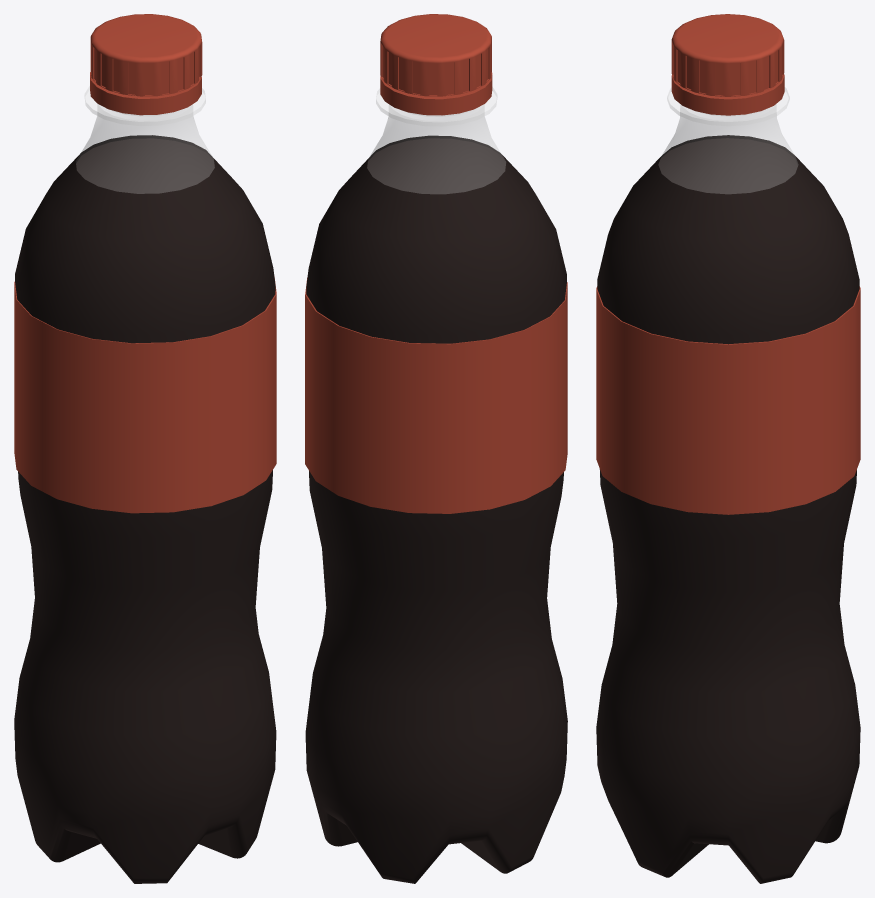
The model's file is coke_bottle_600ml.glb.
3 renders of one model, left to right at view 1: azimuth 30°, elevation 25°; view 2: azimuth 150°, elevation 25°; view 3: azimuth 270°, elevation 25°, orthographic.
Visible parts, largest first — view 1: polySurface3, polySurface2, polySurface5, polySurface1, polySurface4; view 2: polySurface3, polySurface2, polySurface5, polySurface1, polySurface4; view 3: polySurface3, polySurface2, polySurface5, polySurface1, polySurface4.
Boxes of the visible parts, <box> form: polySurface3: <box>14,86,276,883</box>; polySurface2: <box>14,276,276,513</box>; polySurface5: <box>90,14,202,96</box>; polySurface1: <box>76,138,214,193</box>; polySurface4: <box>90,72,201,115</box>; polySurface3: <box>305,87,567,883</box>; polySurface2: <box>305,278,567,513</box>; polySurface5: <box>380,14,491,96</box>; polySurface1: <box>367,138,505,194</box>; polySurface4: <box>380,73,492,115</box>; polySurface3: <box>596,87,860,883</box>; polySurface2: <box>596,286,860,514</box>; polySurface5: <box>671,14,784,96</box>; polySurface1: <box>658,138,797,194</box>; polySurface4: <box>671,74,784,115</box>.
Bounding box in the file's own units: 0.0282 × 0.0951 × 0.0282.
